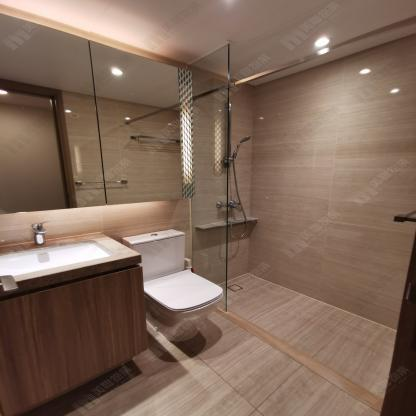Toilet: (120, 228, 225, 343)
Toilet Sink: (0, 239, 118, 284)
Water Cubicle: (184, 0, 416, 415)
